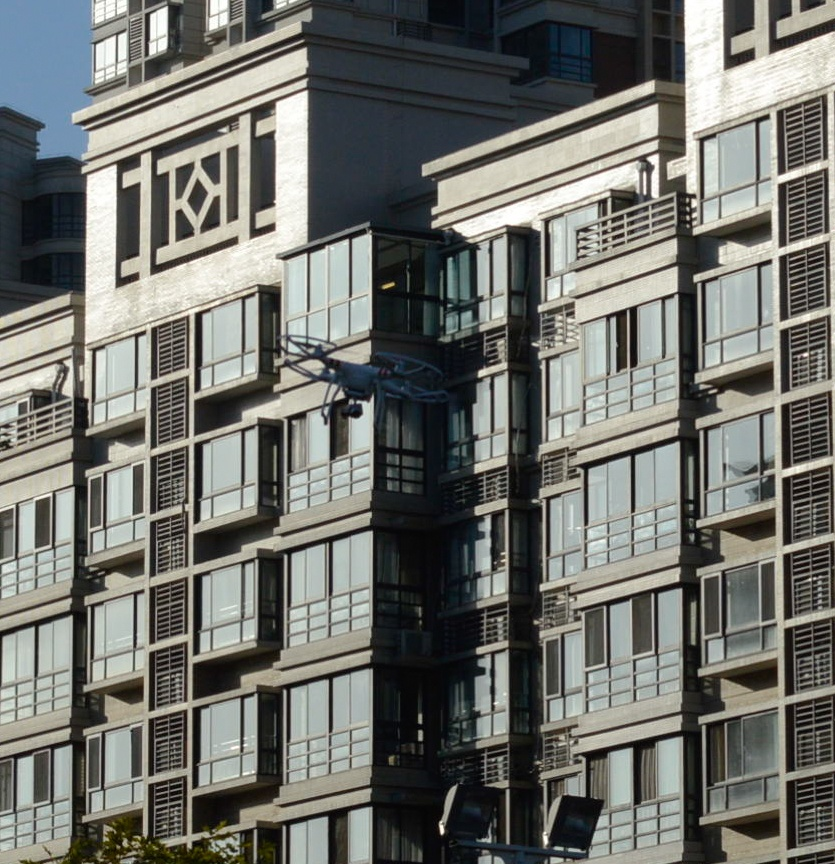DJI: (271, 330, 449, 437)
